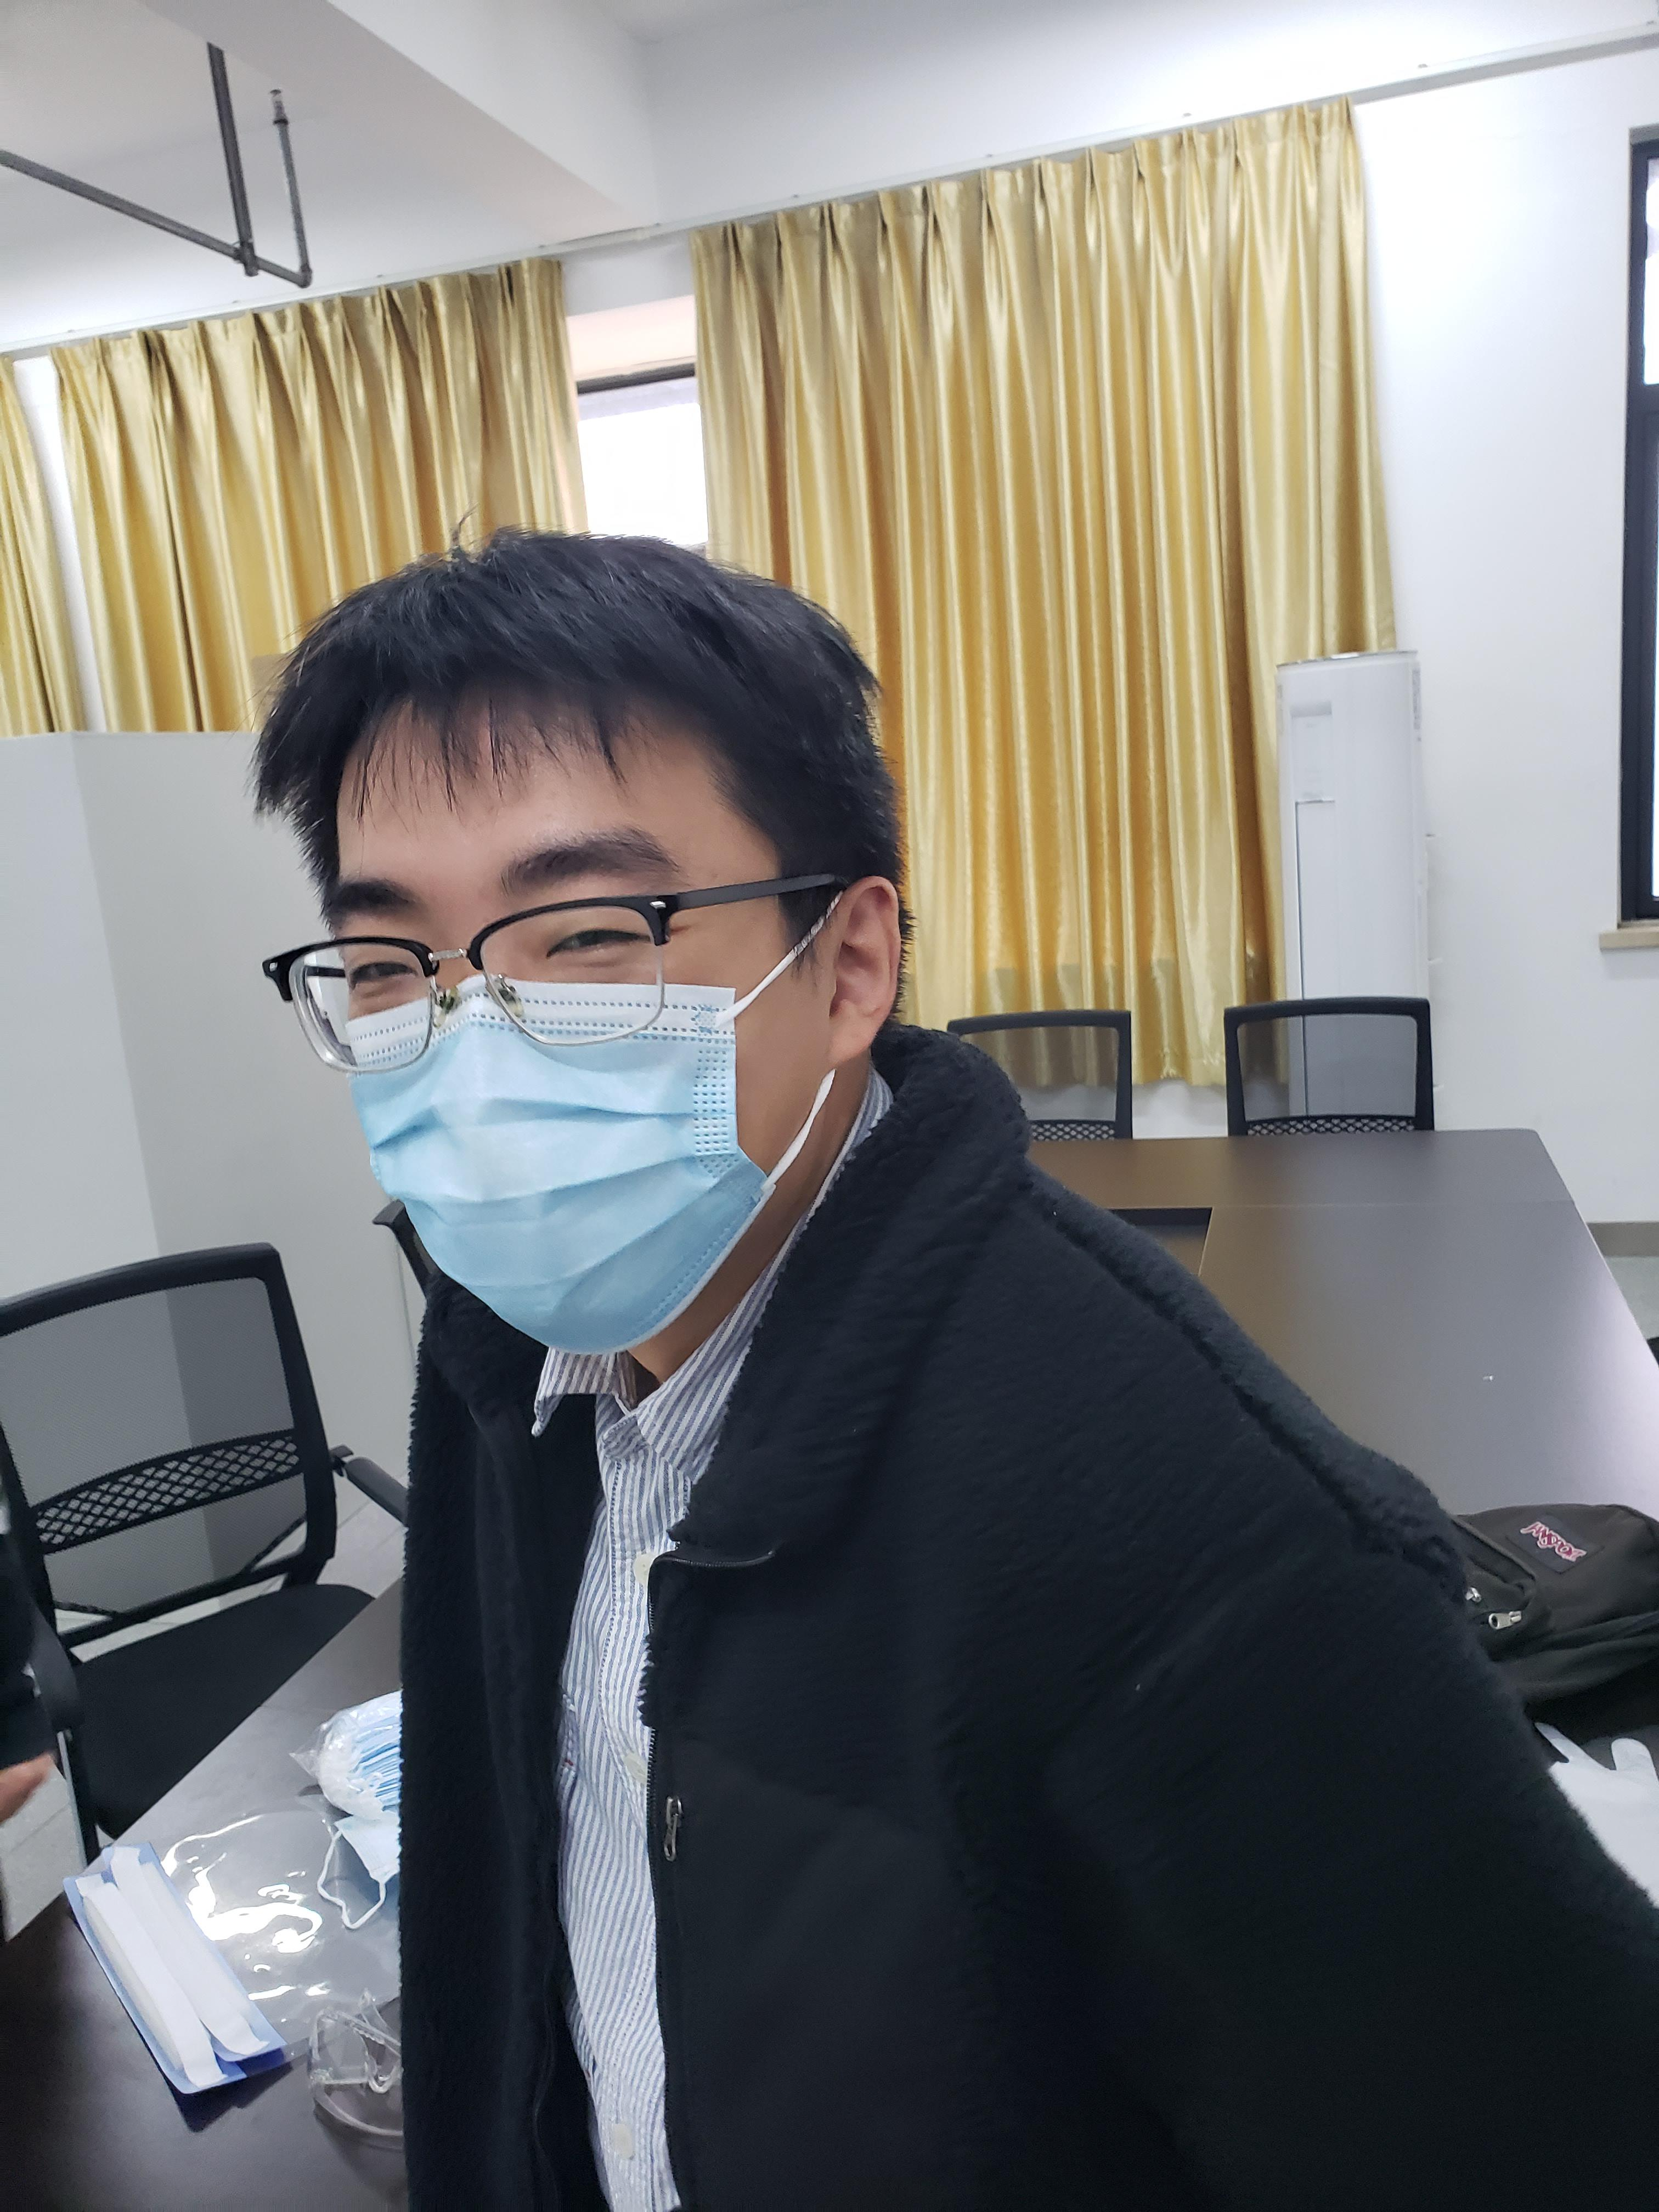Mask: (347, 892, 946, 1360)
